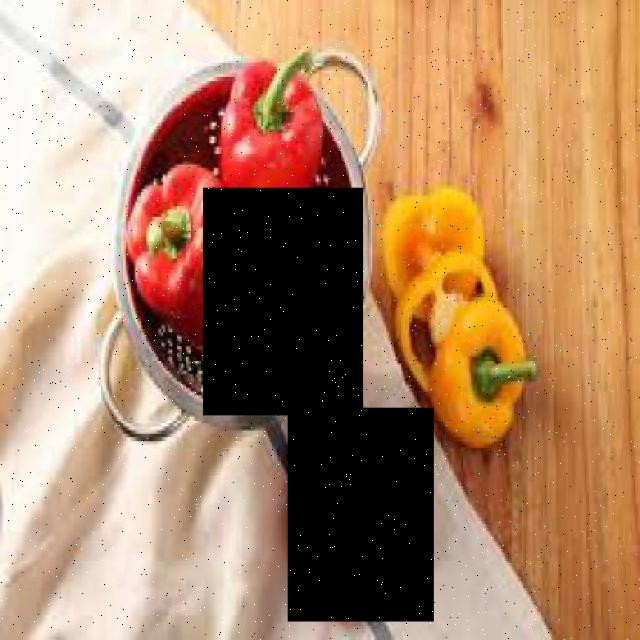Capsicum: (202, 188, 364, 415), (288, 408, 434, 622)
